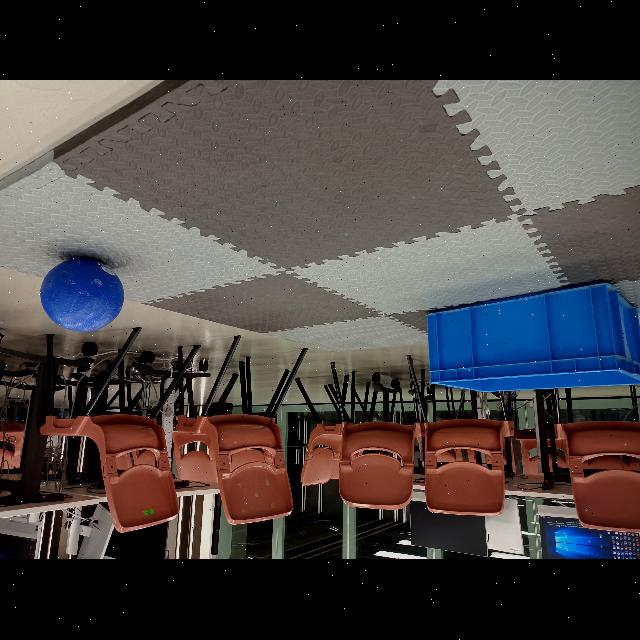B: (40, 256, 126, 336)
